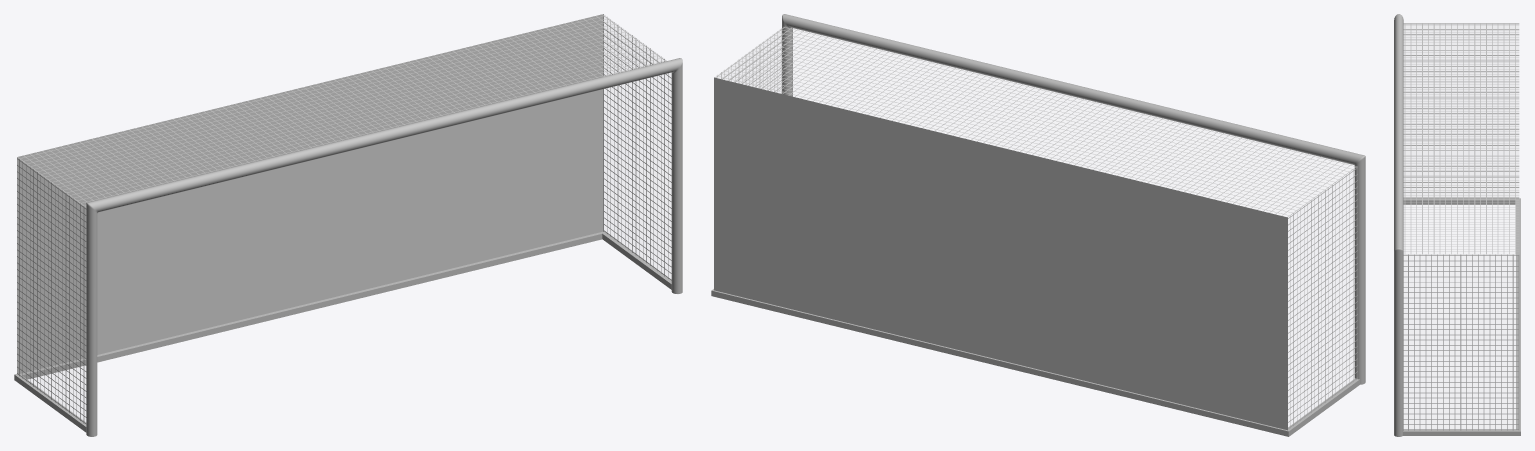
File: goal.glb
The picture shows the model from 3 angles, left to right: view 1: azimuth 30°, elevation 25°; view 2: azimuth 150°, elevation 25°; view 3: azimuth 270°, elevation 25°; orthographic projection. The views are drawn at different scales.
Visible parts, largest first — view 1: Net_Back, Net_Top, Rectangle001, Net_Side_L, Net_Side_R, Shape001_post_0; view 2: Net_Back, Net_Top, Rectangle001, Net_Side_L, Shape001_post_0, Net_Side_R; view 3: Net_Top, Net_Side_R, Net_Side_L, Rectangle001, Shape001_post_0.
Part boxes in pixels (x1,y1,x2,y2): Net_Back: (17, 14, 603, 374); Net_Top: (17, 14, 666, 207); Rectangle001: (86, 58, 682, 436); Net_Side_L: (17, 158, 86, 423); Net_Side_R: (603, 14, 671, 280); Shape001_post_0: (14, 231, 671, 432); Net_Back: (714, 77, 1287, 430); Net_Top: (715, 26, 1357, 217); Rectangle001: (782, 14, 1365, 384); Net_Side_L: (1288, 167, 1357, 429); Shape001_post_0: (711, 289, 1359, 436); Net_Side_R: (716, 28, 783, 93); Net_Top: (1404, 23, 1518, 254); Net_Side_R: (1403, 254, 1519, 430); Net_Side_L: (1403, 23, 1519, 198); Rectangle001: (1394, 14, 1403, 436); Shape001_post_0: (1403, 198, 1520, 435).
Bounding box in the file's own units: 6.7 × 2.5 × 1.53.
Materials: 5 (4 with a texture image).
